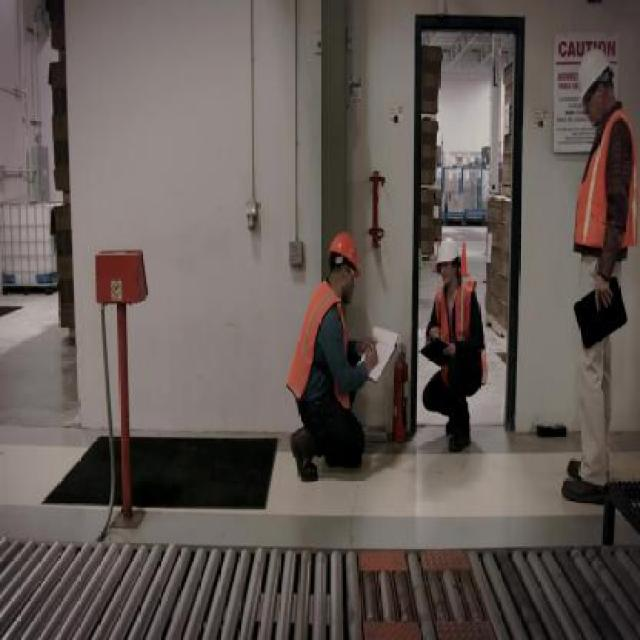Vest: (572, 101, 638, 256), (281, 278, 354, 413), (431, 274, 489, 384)
helmet: (574, 48, 612, 103), (326, 231, 362, 278), (435, 237, 460, 265)
person: (564, 49, 632, 506), (291, 229, 364, 484), (422, 240, 490, 455)
